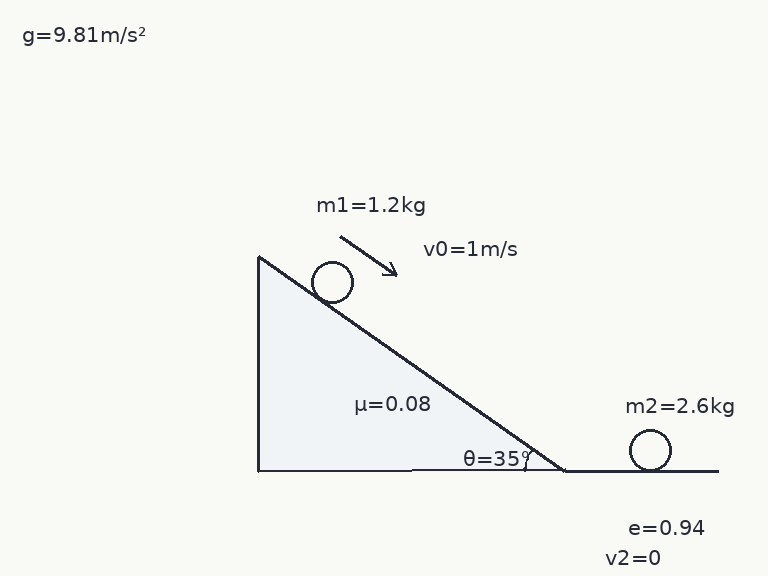ball: (309, 259, 355, 305), (627, 427, 673, 473)
ramp: (256, 254, 567, 473)
